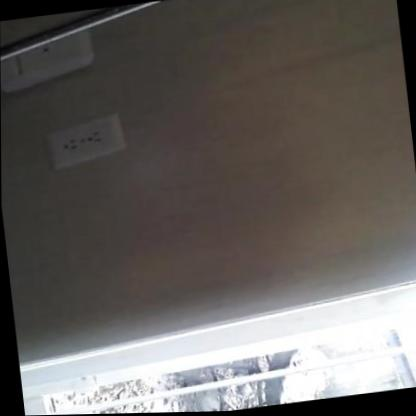OUTLET: (44, 111, 125, 168)
